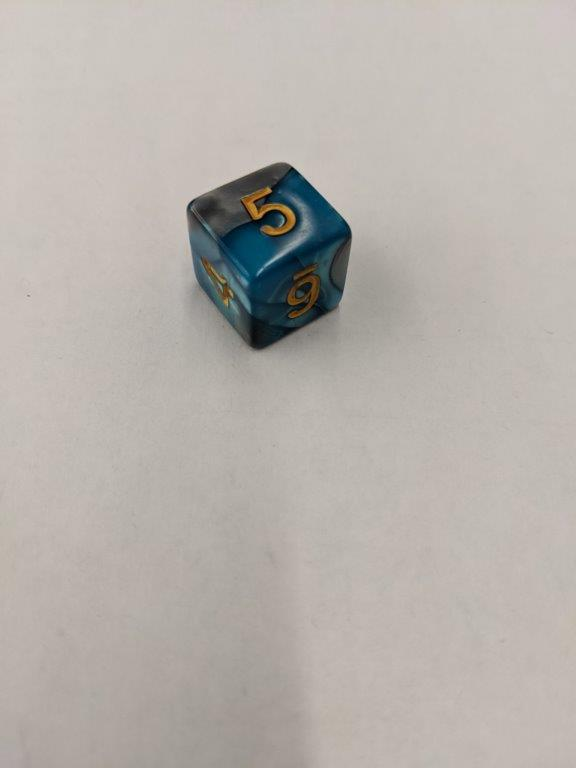d6-5: (187, 164, 352, 351)
